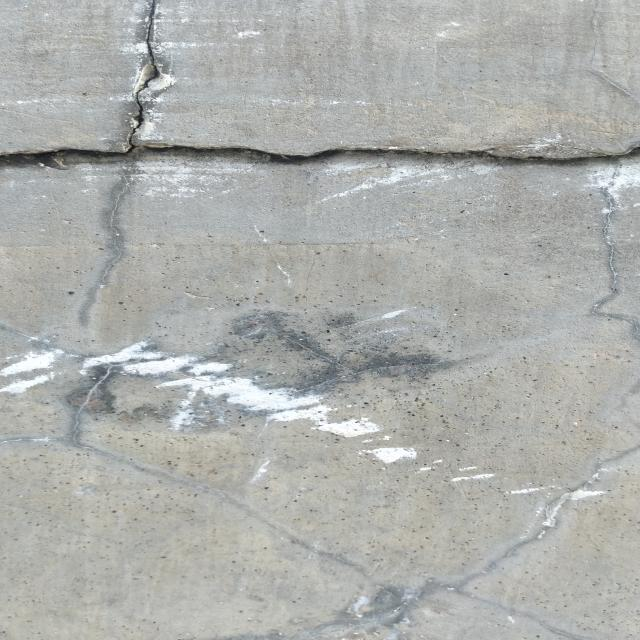Crack: (3, 2, 640, 169)
